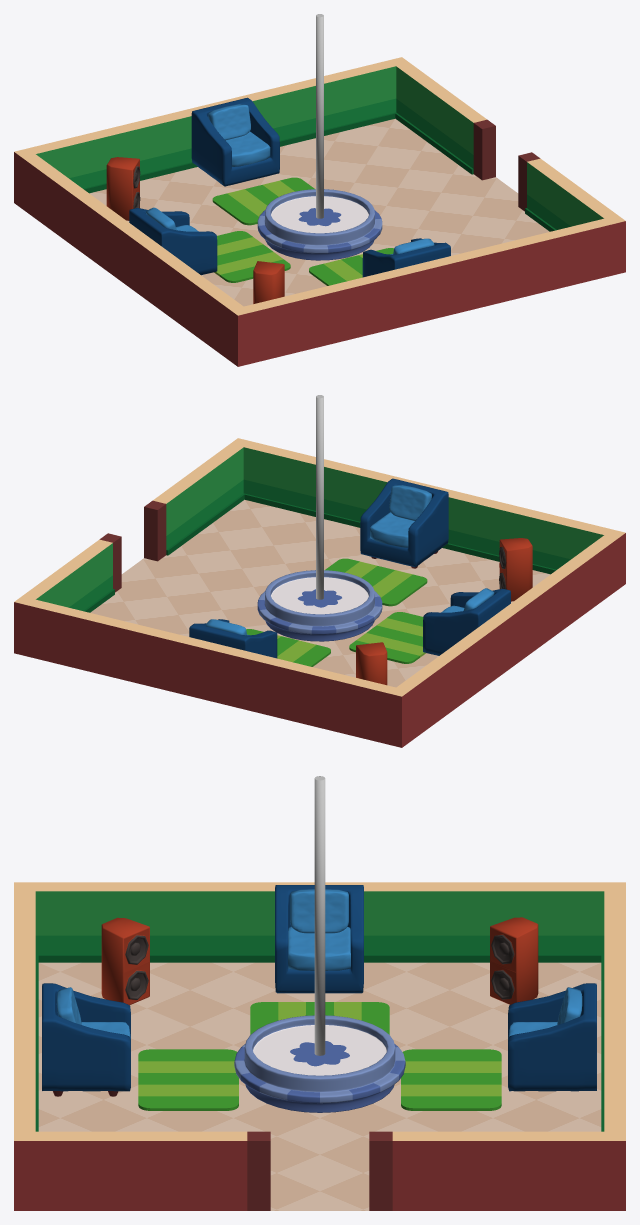
The model's file is VIP_Room_Lvl2_01a 1.fbx.
3 renders of one model, top to bottom at view 1: azimuth 30°, elevation 25°; view 2: azimuth 150°, elevation 25°; view 3: azimuth 270°, elevation 25°, orthographic. The views are drawn at different scales.
Parts seen in each view (by area): view 1: Plane.009, Plane.012; view 2: Plane.009, Plane.012; view 3: Plane.009, Plane.012.
Part boxes in pixels (x1,y1,x2,y2): Plane.009: [14, 57, 625, 366]; Plane.012: [106, 14, 450, 303]; Plane.009: [14, 438, 625, 747]; Plane.012: [189, 395, 532, 685]; Plane.009: [14, 882, 625, 1210]; Plane.012: [42, 776, 596, 1112].
Size of the model in its own units: 7.92 by 4.33 by 7.92.
Materials: 3 (2 with a texture image).
